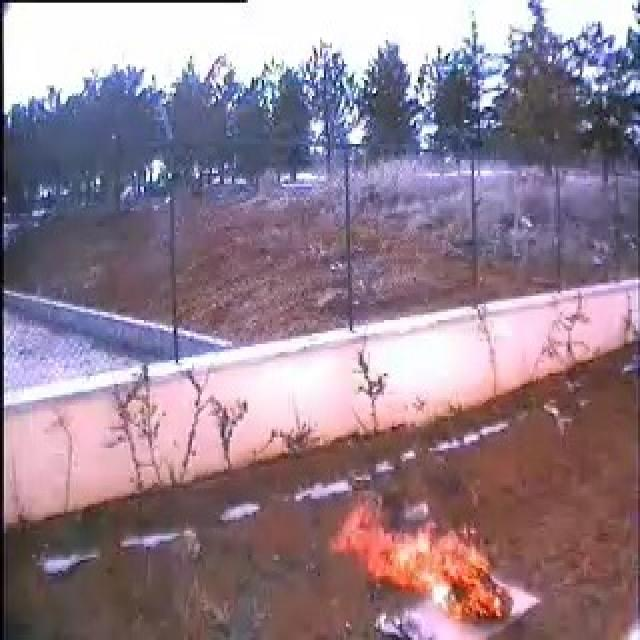fire: (337, 504, 513, 623)
smoke: (382, 476, 411, 524)
